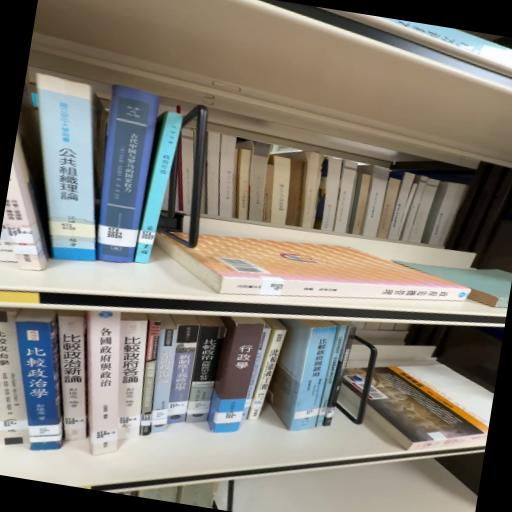flat: (156, 234, 471, 303), (367, 365, 494, 451), (344, 369, 367, 406)
